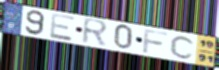0: (113, 24, 135, 53)
9: (25, 10, 46, 36)
C: (169, 35, 197, 60)
E: (49, 12, 77, 43)
F: (142, 28, 170, 55)
R: (81, 17, 111, 49)
